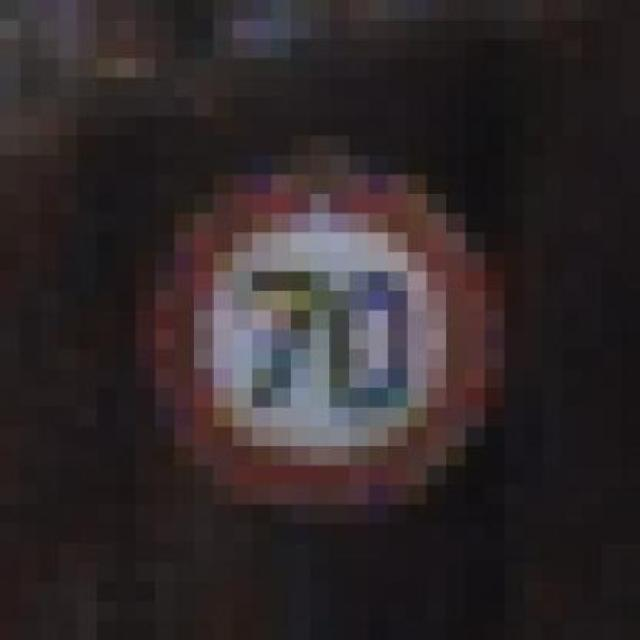forb_speed_over_70: (152, 174, 493, 508)
